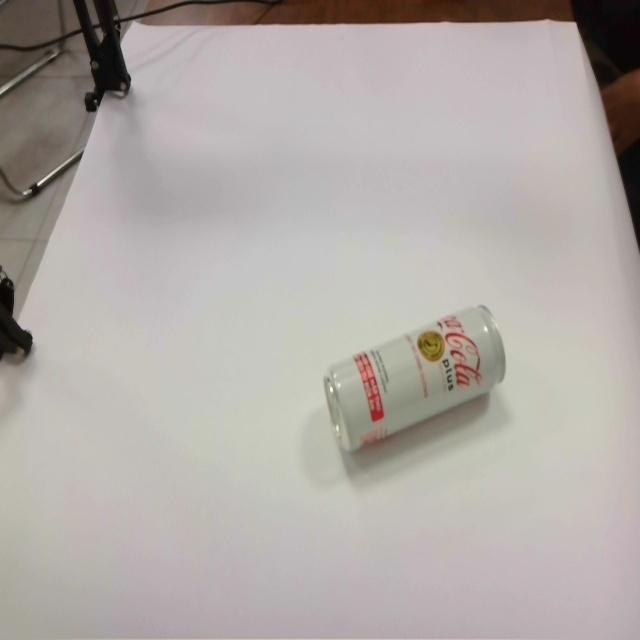debris: (322, 303, 507, 453)
